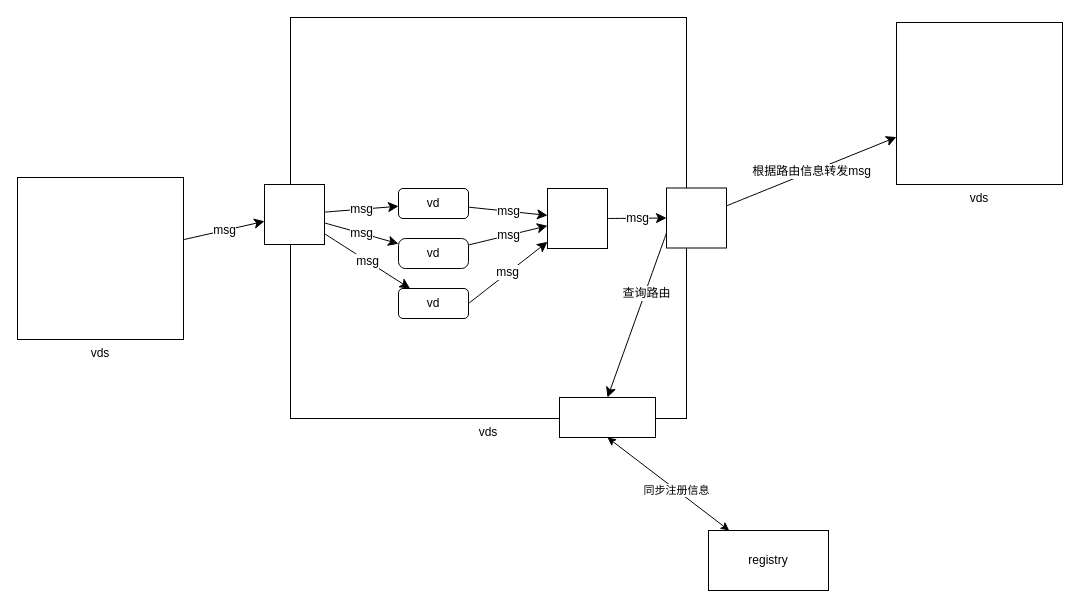
This 1080x608 diagram has some shape labels left out. Here are the shapes that lost their labels. From the top down, the box of each, then its label:
(264, 184, 324, 244): ingress router
(546, 188, 608, 248): egress router
(666, 187, 726, 248): dispatcher
(558, 396, 656, 438): registrySyncer
